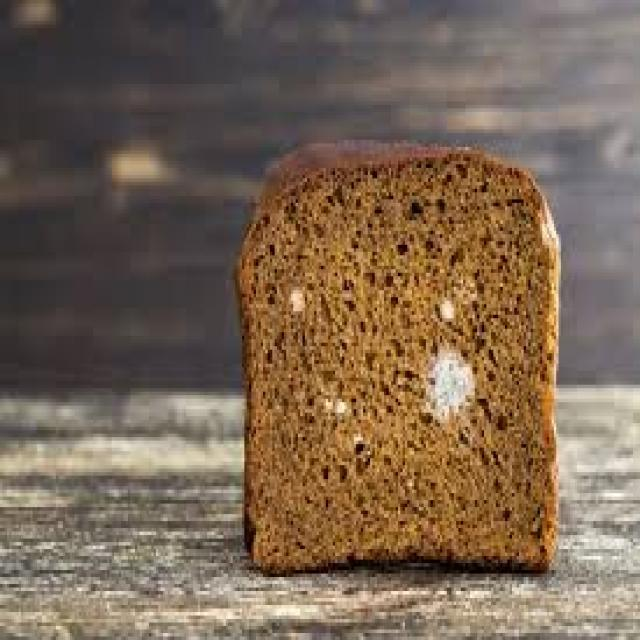Wet Waste: (147, 92, 591, 594)
